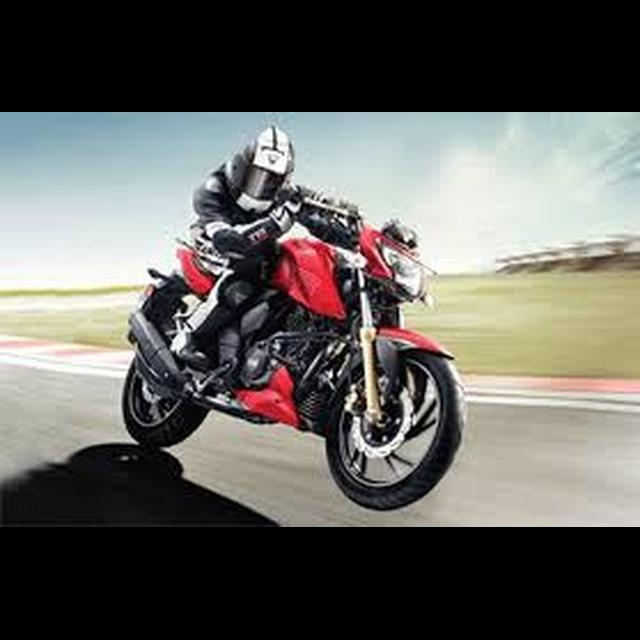motorcycle: (119, 181, 472, 517)
